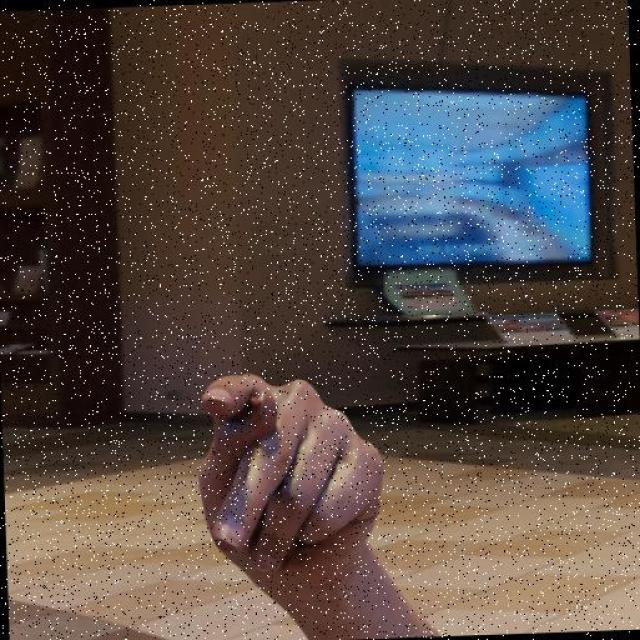P: (193, 363, 397, 599)
